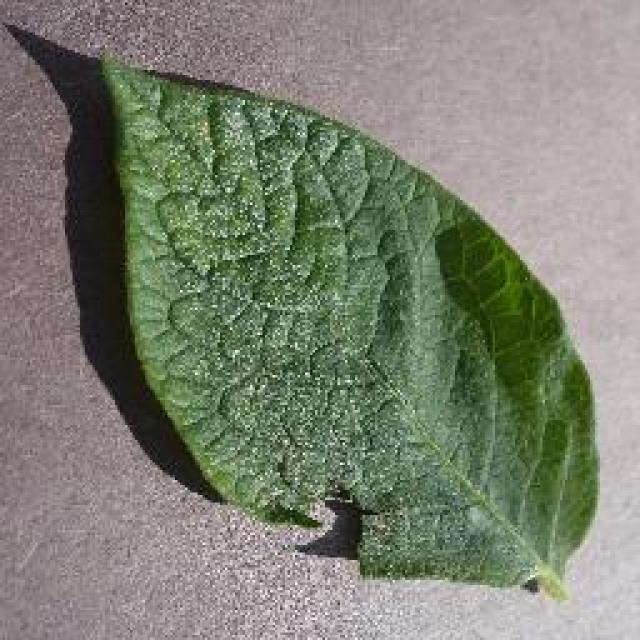healthy: (92, 42, 602, 602)
